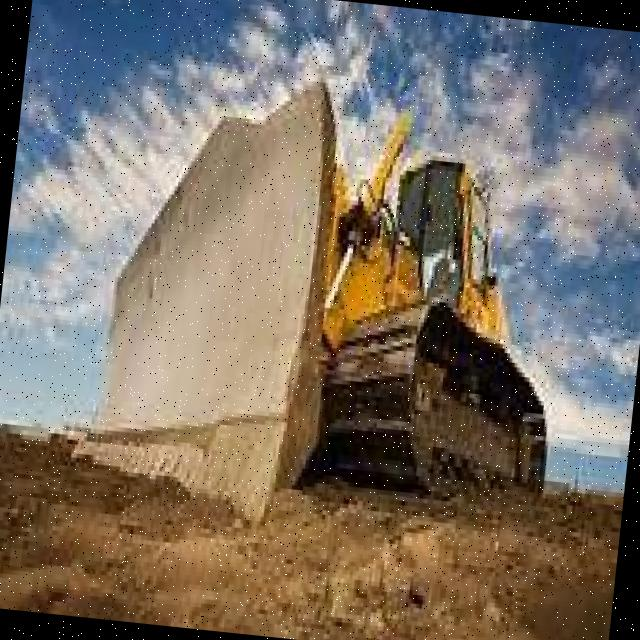Bulldozer: (59, 33, 640, 597)
